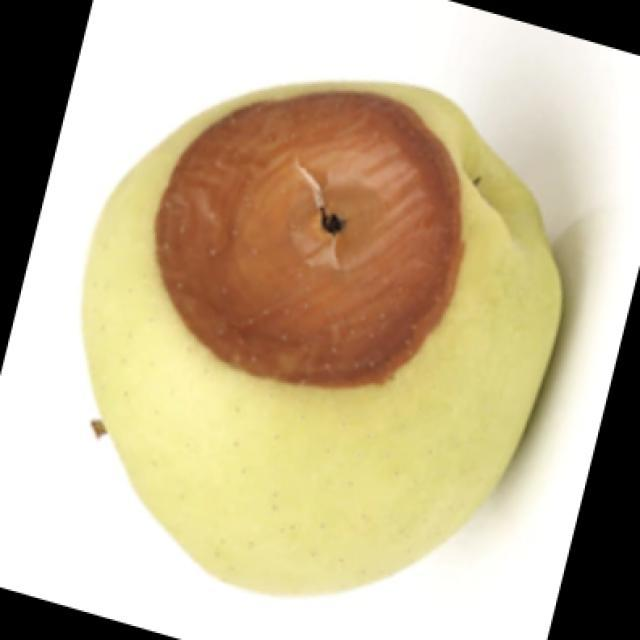Rotten: (128, 83, 564, 595)
